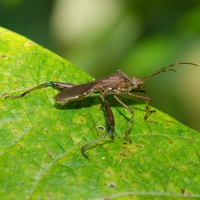insect: (0, 86, 199, 199)
